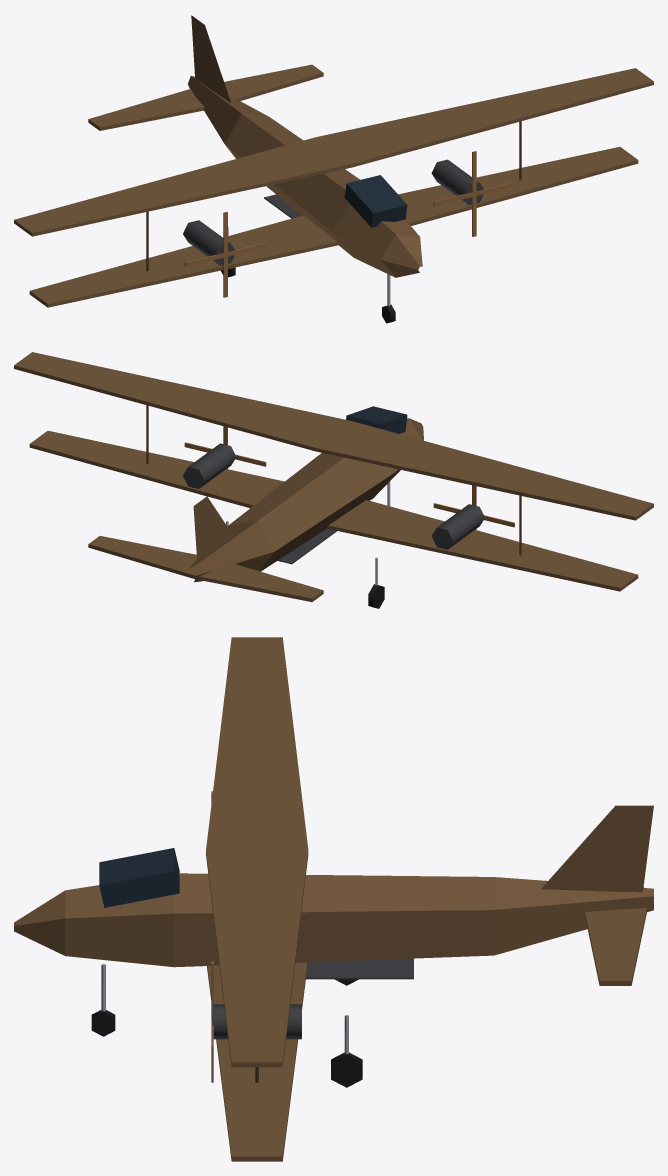
The model's file is veh_air_bomber_a05_lod1.glb.
3 renders of one model, top to bottom at view 1: azimuth 30°, elevation 25°; view 2: azimuth 150°, elevation 25°; view 3: azimuth 270°, elevation 25°, orthographic. The views are drawn at different scales.
Parts seen in each view (by area): view 1: body, propeller_0, propeller_1; view 2: body, propeller_0, gear_1, propeller_1; view 3: body, gear_2, gear_0.
Part boxes in pixels (x1,y1,x2,y2): body: [14, 15, 653, 307]; propeller_0: [184, 212, 266, 297]; propeller_1: [433, 151, 514, 236]; body: [14, 352, 653, 601]; propeller_0: [433, 485, 514, 529]; gear_1: [368, 557, 384, 608]; propeller_1: [184, 426, 266, 469]; body: [14, 637, 653, 1161]; gear_2: [331, 1015, 362, 1087]; gear_0: [91, 963, 115, 1036].
Size of the model in its own units: 22 by 5.56 by 14.
